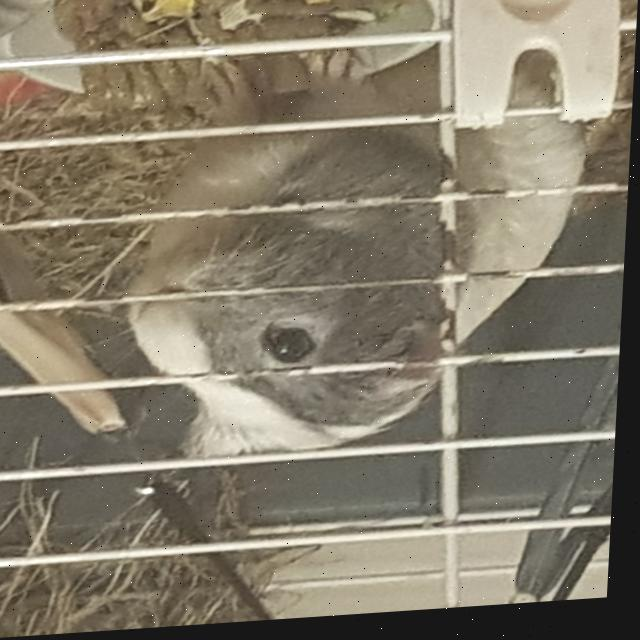guinea pig: (117, 38, 600, 466)
